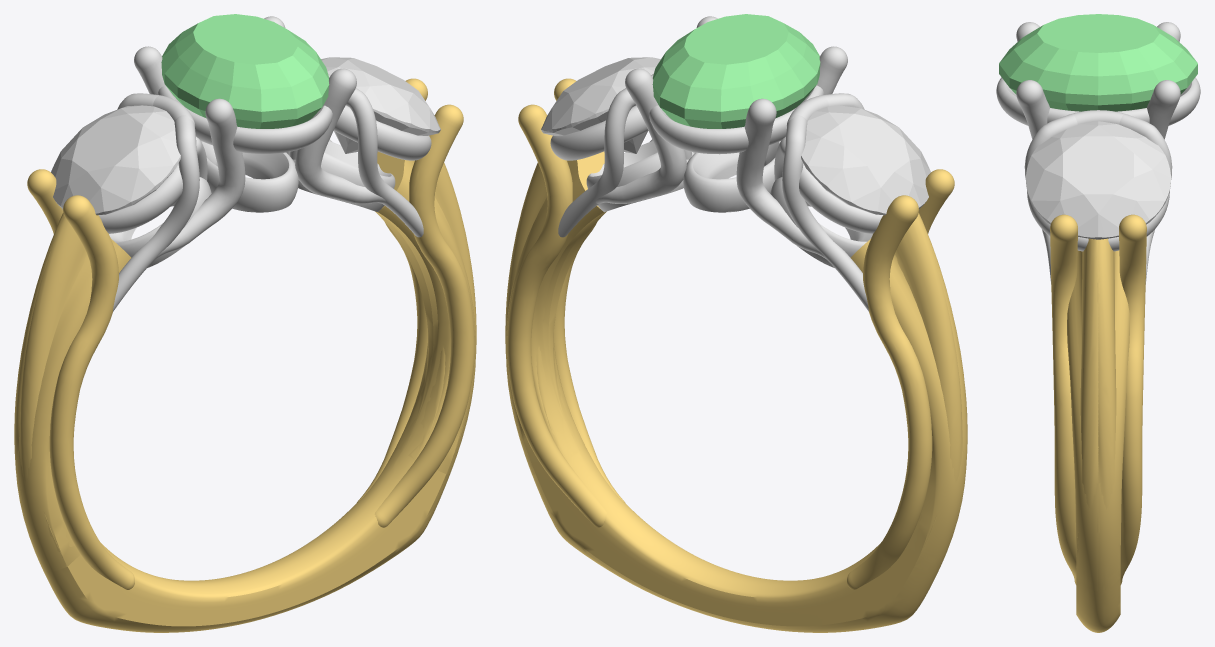
The model's file is BlaineYGPTeng2.glb.
The picture shows the model from 3 angles, left to right: view 1: azimuth 30°, elevation 25°; view 2: azimuth 150°, elevation 25°; view 3: azimuth 270°, elevation 25°; orthographic projection. The views are drawn at different scales.
Visible parts, largest first — view 1: Blaine YG for 3d model, Blaine PT for 3d model, Blaine garnet for 3d model, Blaine dia for 3d model.001, Blaine dia for 3d model; view 2: Blaine YG for 3d model, Blaine PT for 3d model, Blaine garnet for 3d model, Blaine dia for 3d model.001, Blaine dia for 3d model; view 3: Blaine YG for 3d model, Blaine garnet for 3d model, Blaine dia for 3d model, Blaine PT for 3d model.
Boxes of the visible parts, x1=… form: Blaine YG for 3d model: x1=14, y1=78, x2=476, y2=632; Blaine PT for 3d model: x1=62, y1=16, x2=431, y2=311; Blaine garnet for 3d model: x1=161, y1=14, x2=329, y2=128; Blaine dia for 3d model.001: x1=51, y1=105, x2=180, y2=215; Blaine dia for 3d model: x1=321, y1=57, x2=440, y2=153; Blaine YG for 3d model: x1=505, y1=78, x2=967, y2=632; Blaine PT for 3d model: x1=550, y1=16, x2=919, y2=311; Blaine garnet for 3d model: x1=652, y1=14, x2=820, y2=128; Blaine dia for 3d model.001: x1=801, y1=105, x2=930, y2=215; Blaine dia for 3d model: x1=541, y1=57, x2=660, y2=153; Blaine YG for 3d model: x1=1050, y1=214, x2=1146, y2=632; Blaine garnet for 3d model: x1=999, y1=14, x2=1197, y2=111; Blaine dia for 3d model: x1=1026, y1=121, x2=1170, y2=239; Blaine PT for 3d model: x1=996, y1=22, x2=1200, y2=284.
Size of the model in its own units: 20.5 by 25.08 by 8.3.
